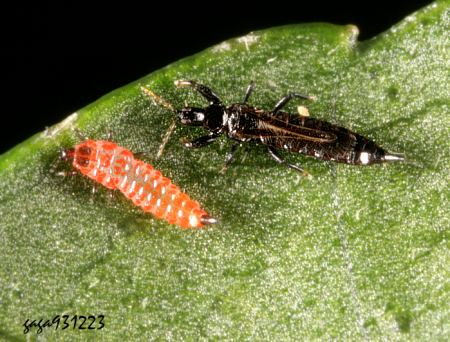Phlaeothripidae: (141, 76, 412, 173)
